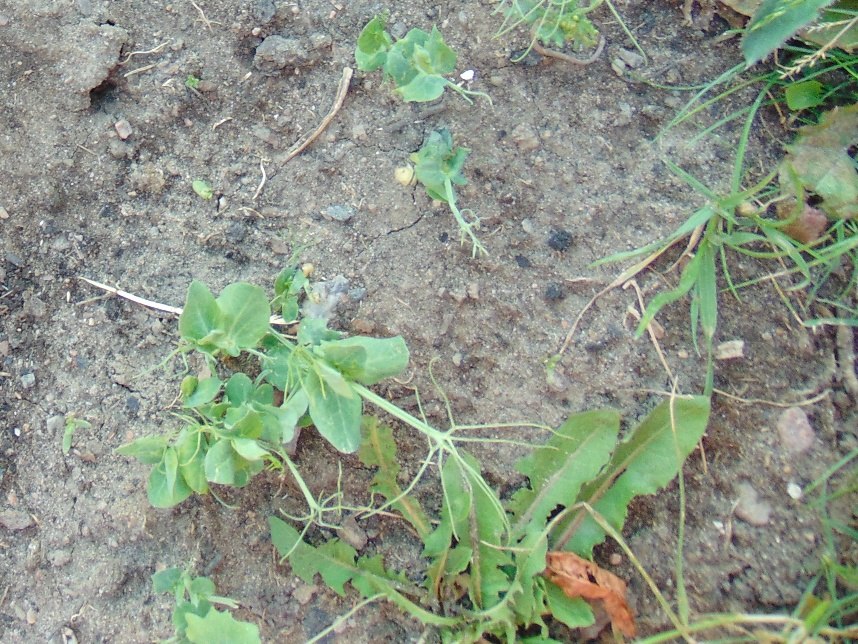crop: (121, 277, 465, 520), (397, 131, 486, 256), (349, 14, 472, 100), (152, 563, 237, 625), (182, 582, 267, 644), (501, 1, 554, 37), (191, 178, 214, 198)
weed: (334, 434, 673, 644), (376, 390, 715, 600), (637, 137, 857, 314), (716, 1, 858, 111), (783, 553, 858, 644), (539, 1, 607, 54)
